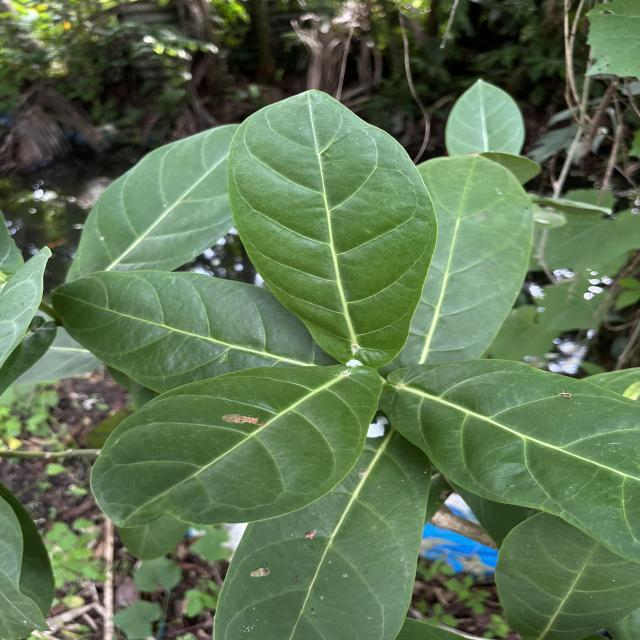Calotropis gigantea: (225, 88, 440, 372), (380, 358, 640, 568), (88, 359, 390, 532), (211, 426, 429, 640), (49, 268, 316, 396), (377, 152, 535, 366), (66, 120, 242, 278), (492, 510, 640, 640), (443, 76, 527, 154)
